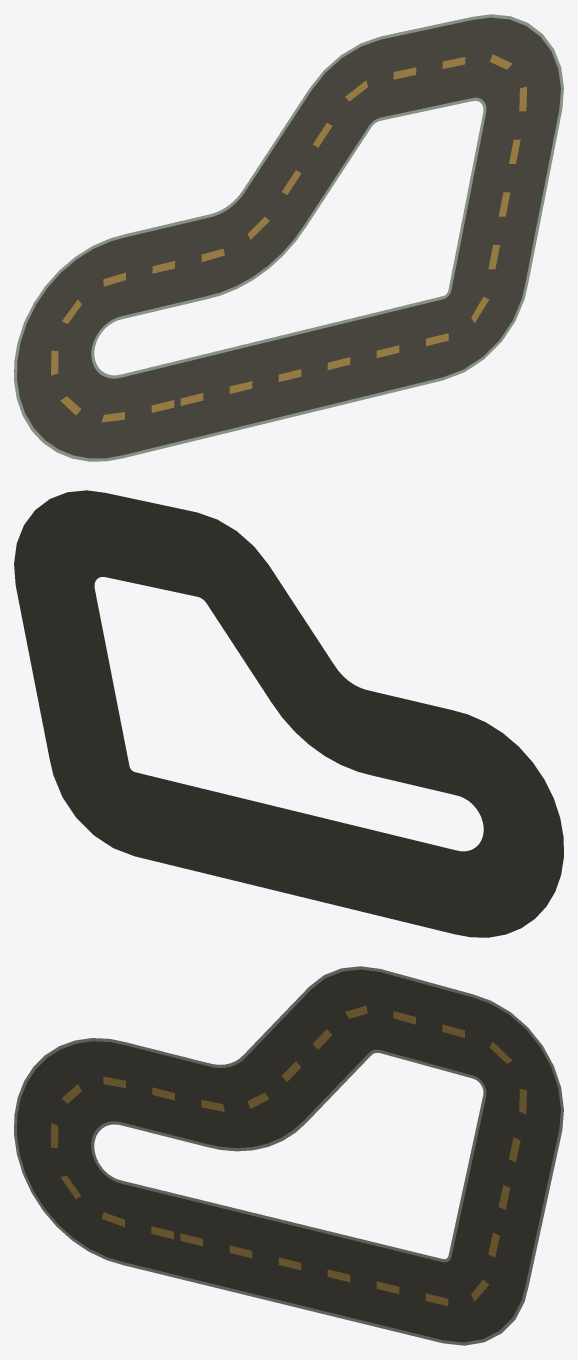
The model's file is track.obj.
3 renders of one model, top to bottom at view 1: azimuth 30°, elevation 25°; view 2: azimuth 150°, elevation 25°; view 3: azimuth 330°, elevation 25°, orthographic.
Bounding box in the file's own units: 7.29 × 4.55 × 0.002.
